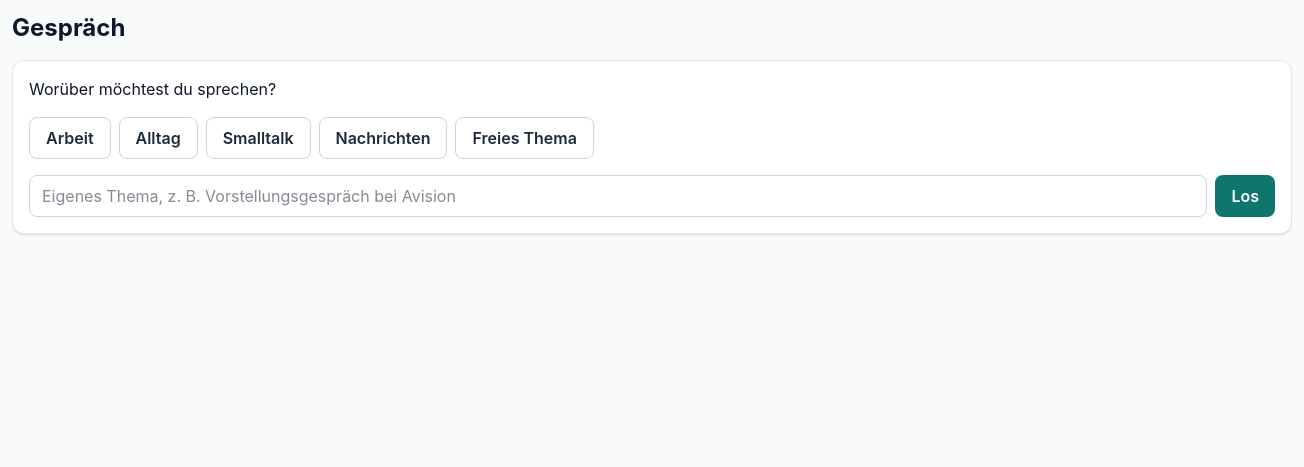
Test: Gespräch › explains a denied microphone and opens the text input
Click the button "Arbeit" at (70, 138), box x1=29 y1=117 x2=110 y2=159
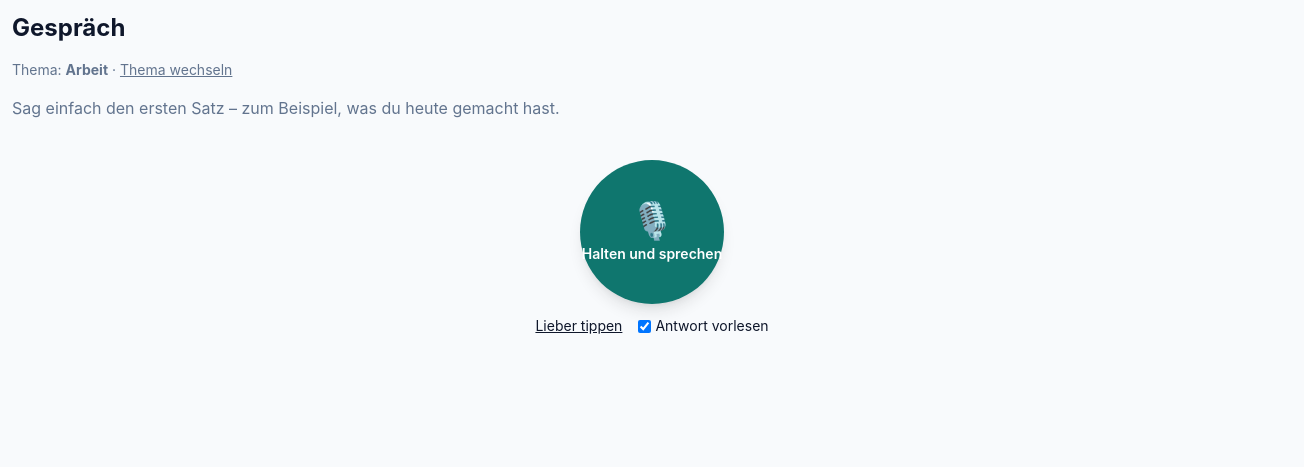
Check: the button "🎙️ Halten und sprechen" is shown
Press the mouse on the button "🎙️ Halten und sprechen" at (652, 232), box x1=580 y1=160 x2=724 y2=304
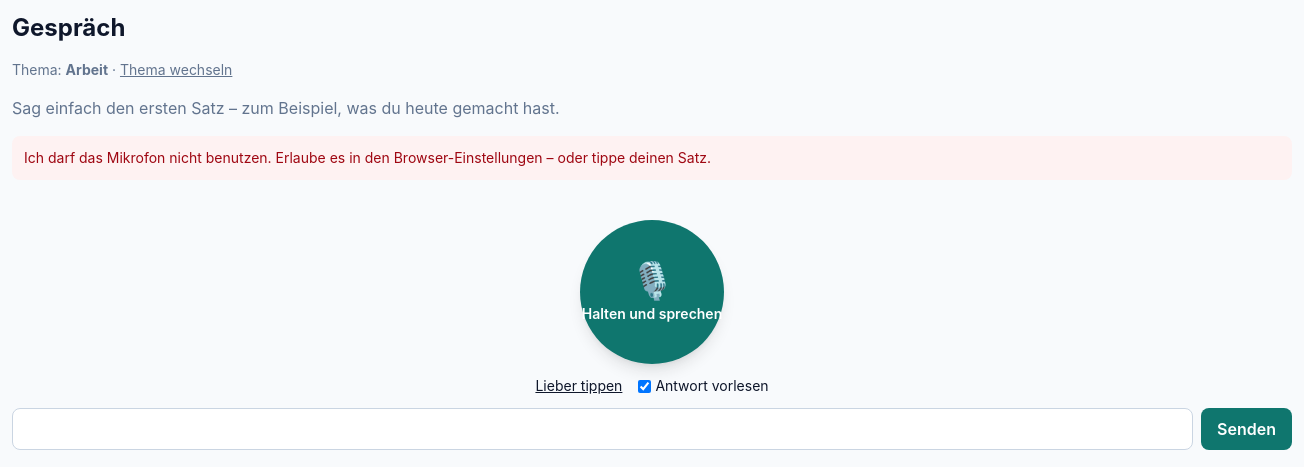
Check: the message shows "Mikrofon nicht benutzen", box x1=24 y1=149 x2=711 y2=166
Check: the field named "Dein Satz" is shown, box x1=12 y1=408 x2=1193 y2=450
